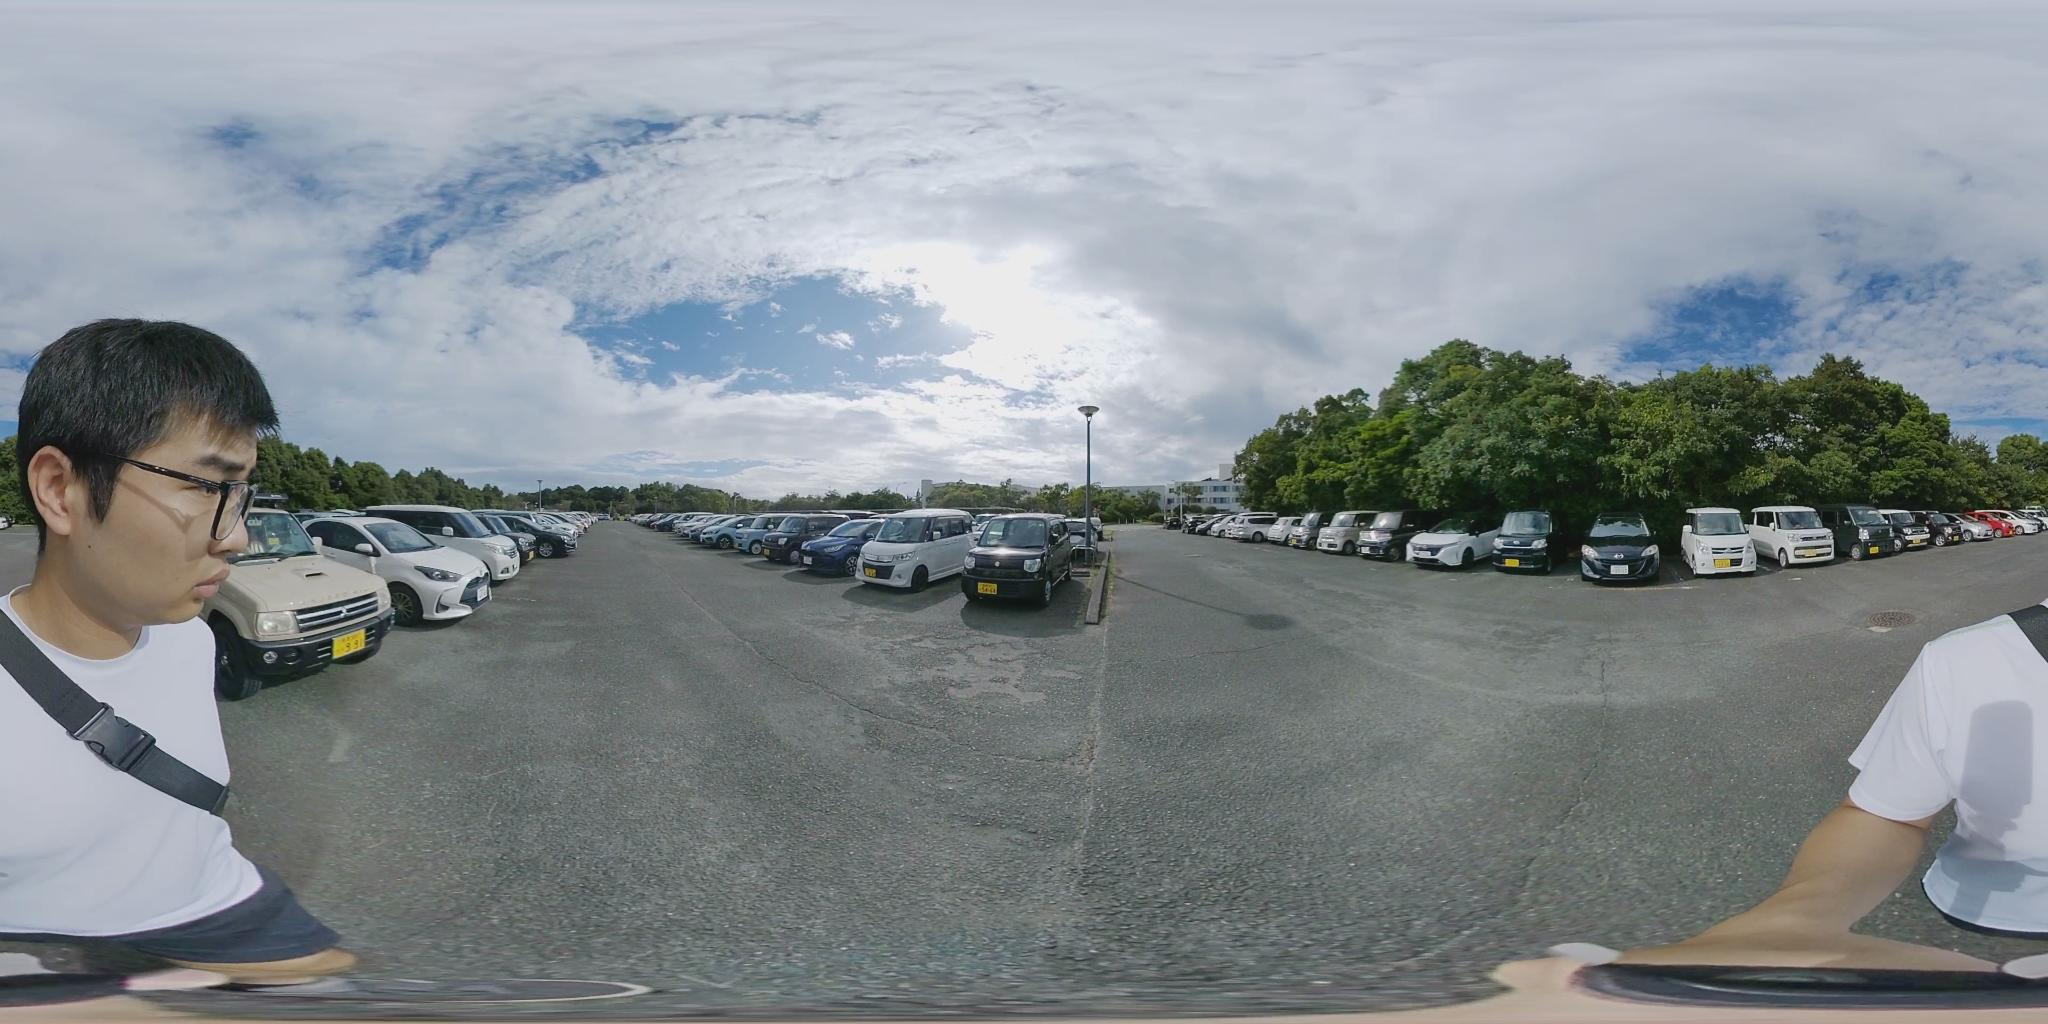car: (296, 515, 503, 630), (368, 507, 529, 581), (825, 517, 974, 583), (970, 515, 1070, 606), (777, 517, 886, 571), (1578, 516, 1657, 583), (1407, 516, 1502, 571), (737, 512, 848, 559), (1498, 513, 1556, 575), (520, 515, 585, 558), (1204, 515, 1277, 543), (1276, 515, 1323, 547)
